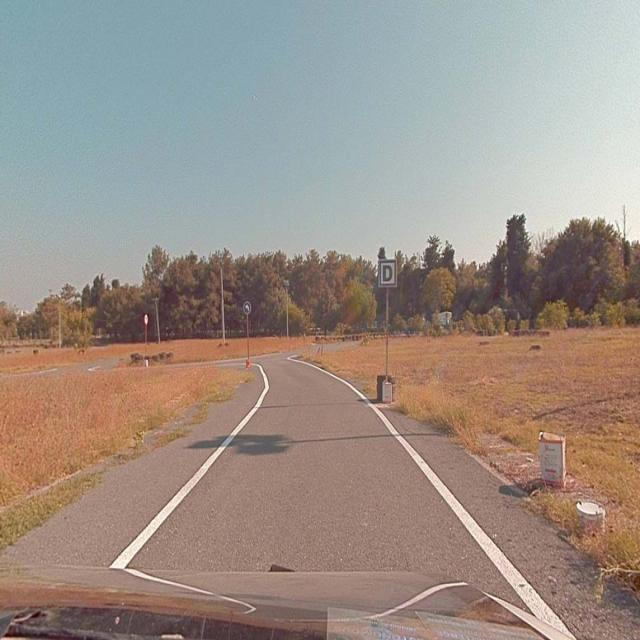durak: (378, 259, 398, 286)
sol: (244, 300, 251, 314)
